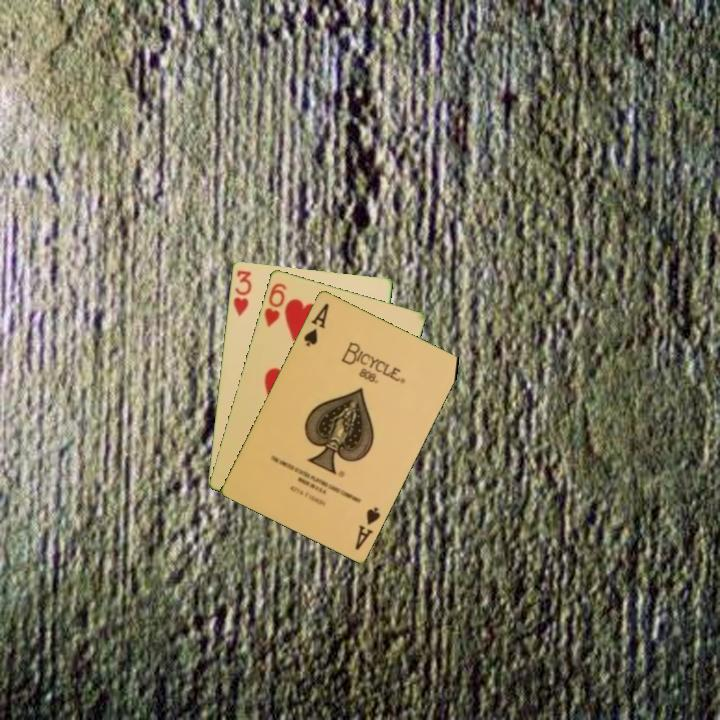3h: (230, 267, 254, 319)
6h: (260, 279, 289, 330)
As: (300, 299, 332, 349), (351, 503, 383, 553)
